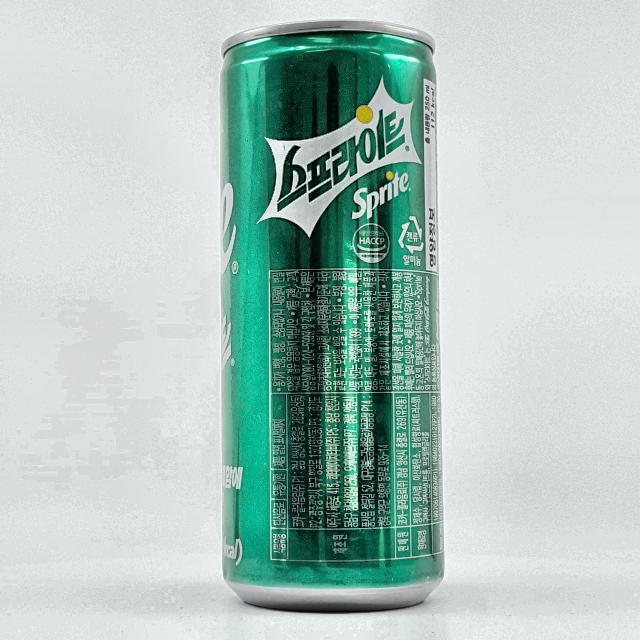sprite: (220, 21, 442, 611)
